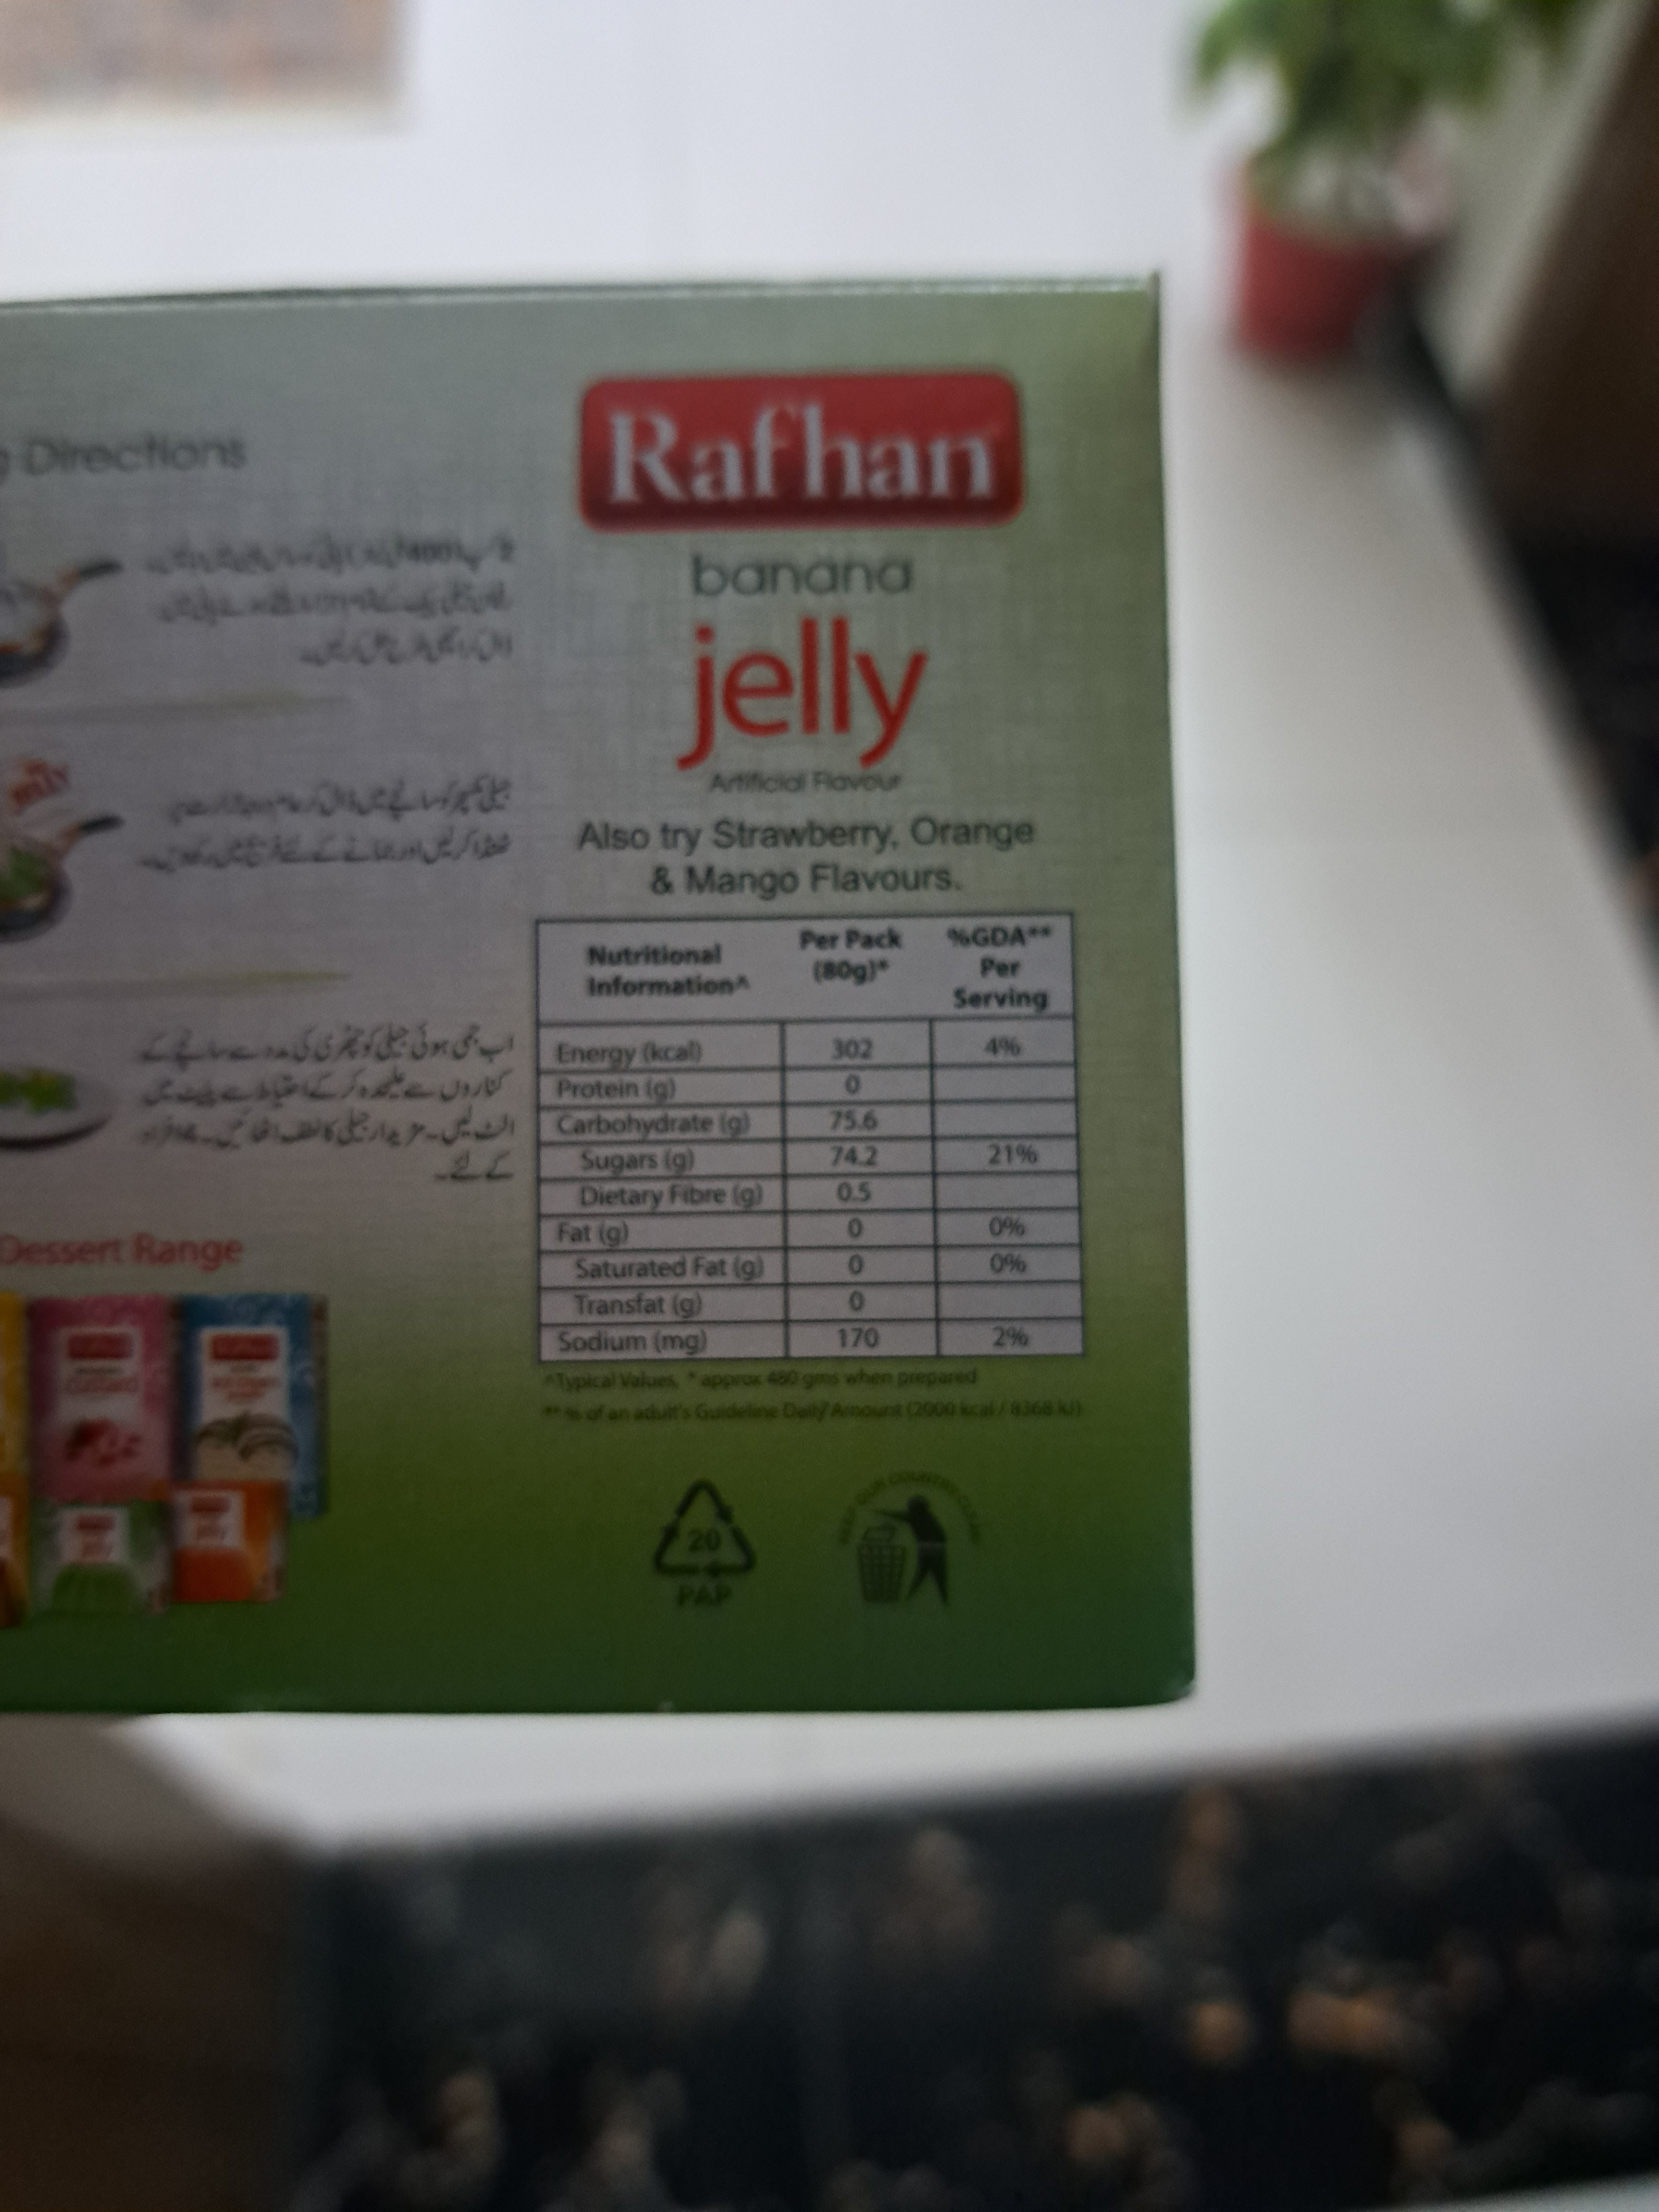table: (533, 918, 1089, 1357)
